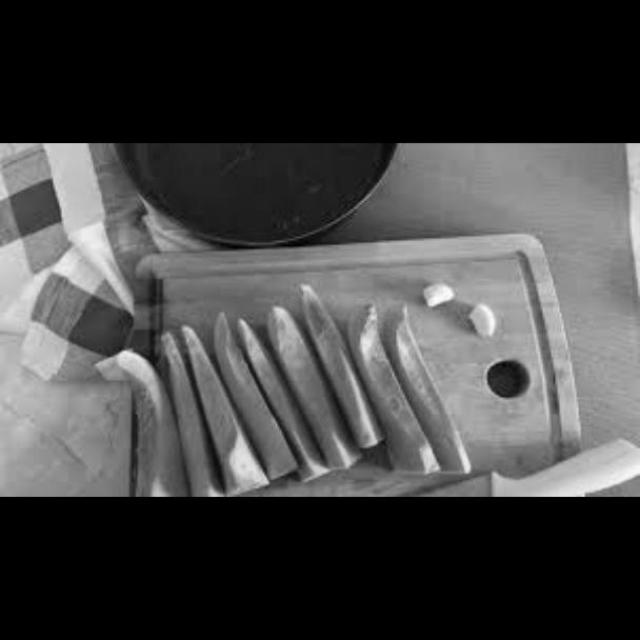garlic: (462, 298, 496, 340), (417, 277, 459, 310)
pumpkin: (268, 277, 387, 466), (352, 300, 474, 480), (212, 304, 333, 485), (155, 323, 260, 494), (106, 345, 189, 495)
